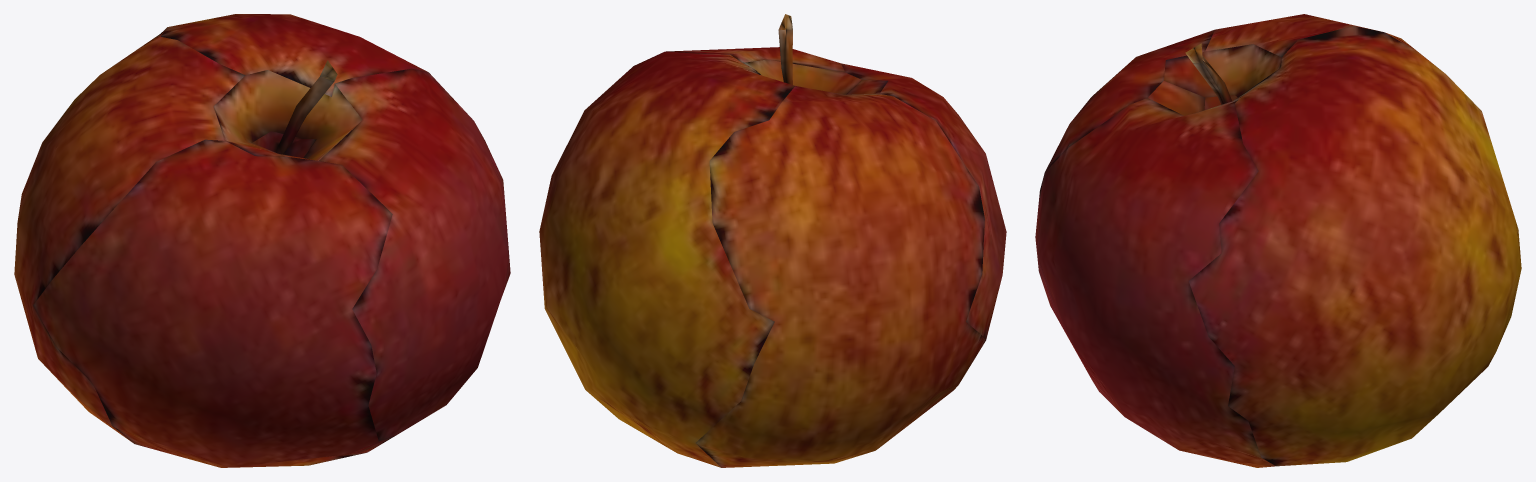
The model's file is apple.glb.
3 views of the same model, side by side, from view 1: azimuth 30°, elevation 25°; view 2: azimuth 150°, elevation 25°; view 3: azimuth 270°, elevation 25° (orthographic). The views are drawn at different scales.
Parts seen in each view (by area): view 1: apple; view 2: apple; view 3: apple.
Boxes of the visible parts, left/top/right/bottom form: apple: left=14, top=14, right=510, bottom=467; apple: left=539, top=14, right=1006, bottom=467; apple: left=1035, top=14, right=1521, bottom=467.
Bounding box in the file's own units: 0.0973 × 0.0848 × 0.0956.
1 material, 1 textured.
